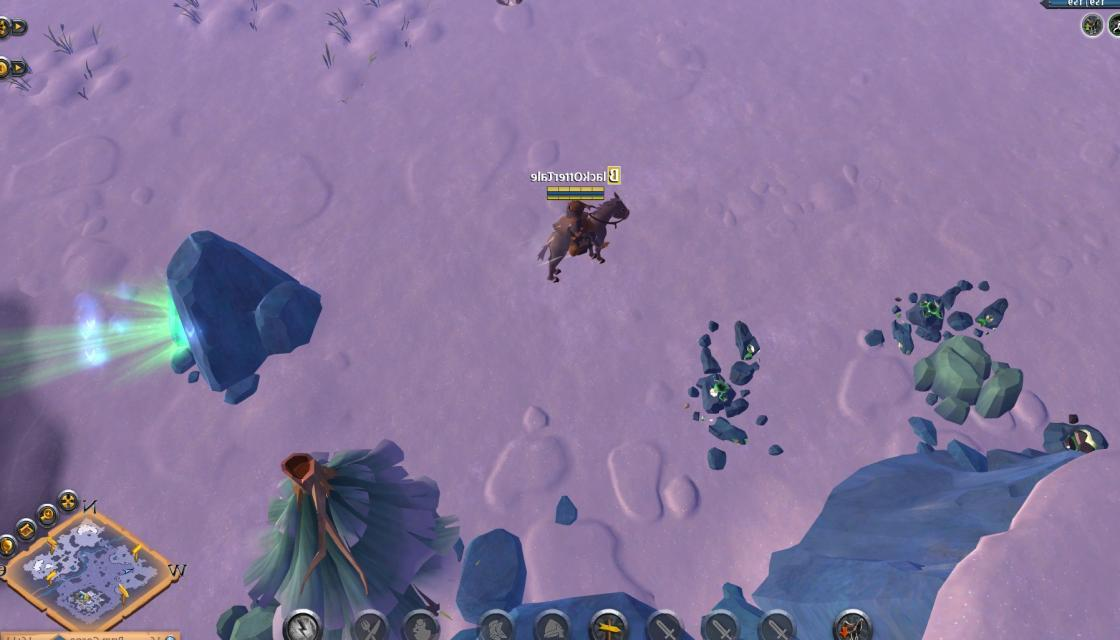sandstone: (914, 330, 1028, 421), (215, 591, 298, 640)
